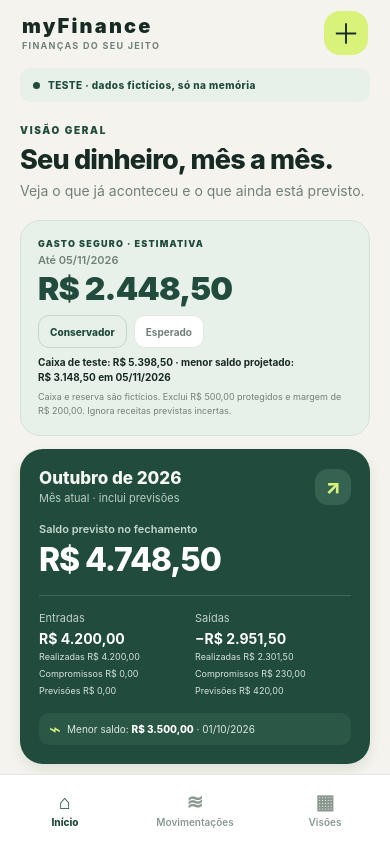
Scenario: app movement journeys › filters movements by status, direction, and description, then restores the defaults
The width and height of the screenshot is (390, 844).
Step 1. Click the tab with test id "tab-movements" → (195,809), box [156,790,234,828]
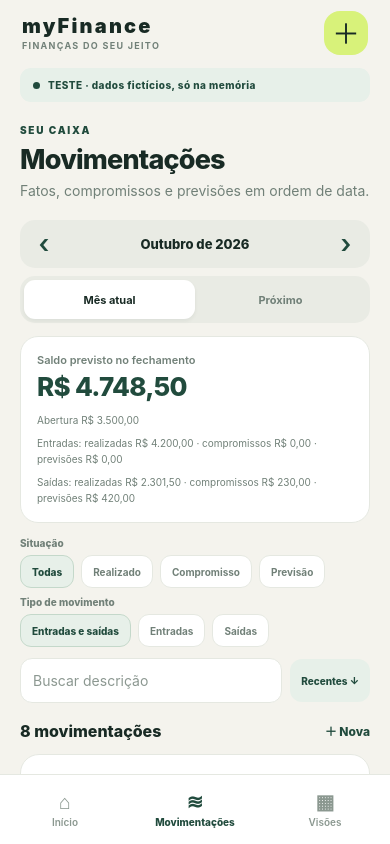
Step 2. Type "Mercado" into the field named "Buscar movimentações" → (151,680), box [20,658,282,703]
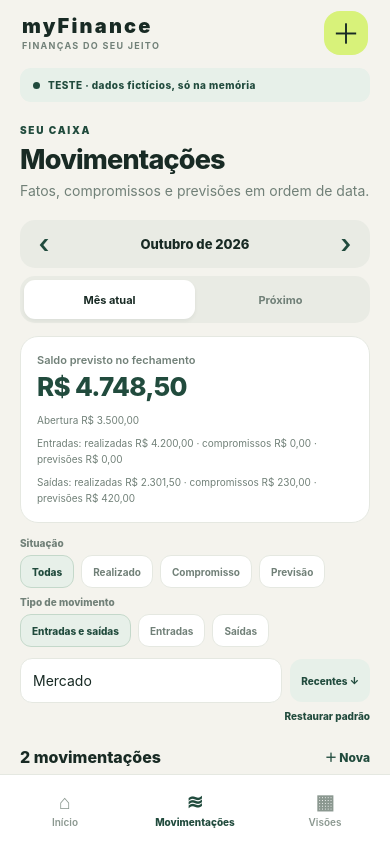
Step 3. Click the button with test id "filter-nature-forecast" → (292,572), box [259,555,325,588]
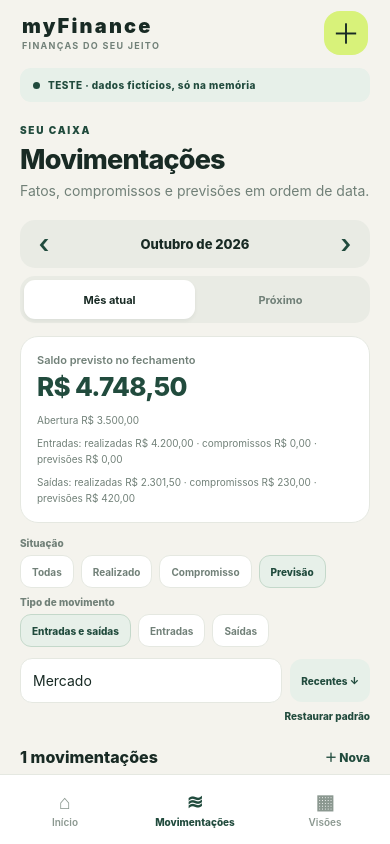
Step 4. Click the button with test id "filter-direction-income" → (172,630), box [138,614,205,647]
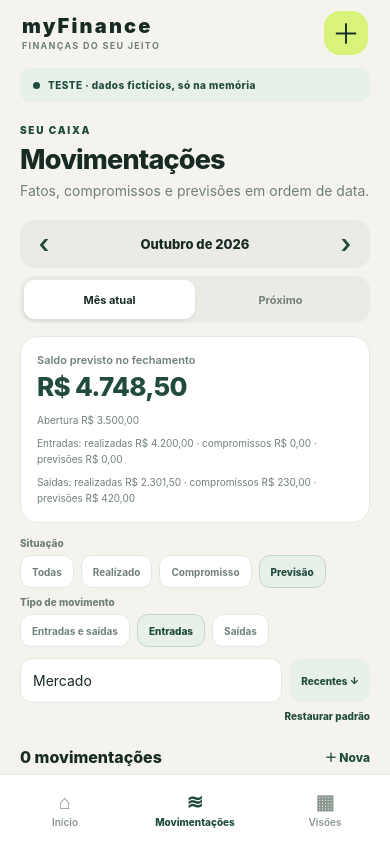
Step 5. Click the button with test id "reset-movement-filters-button" → (321,716), box [272,703,370,729]
(page scrolled)
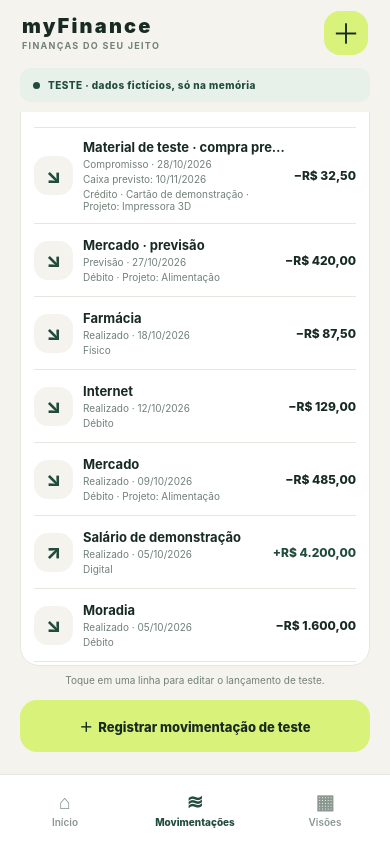
Now the button with test id "movement-row-demo-market" is shown, box [34,443,356,516]
Now the button with test id "movement-row-demo-salary" is shown, box [34,516,356,589]
